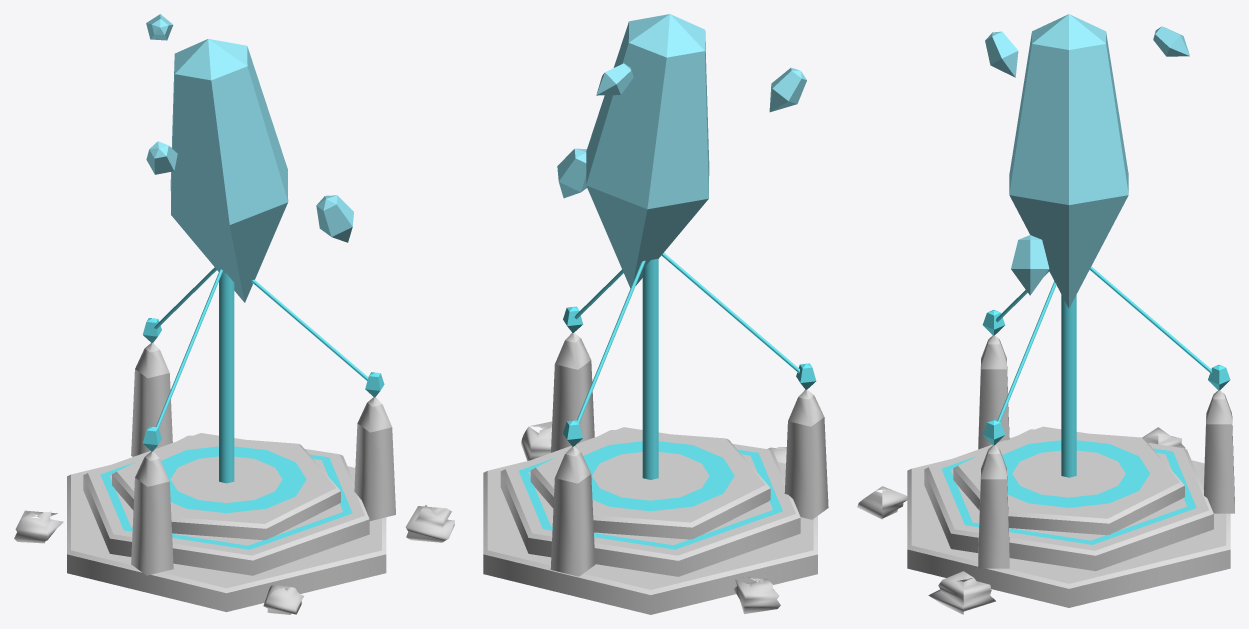
File: FloatingShard.glb
3 renders of one model, left to right at view 1: azimuth 30°, elevation 25°; view 2: azimuth 150°, elevation 25°; view 3: azimuth 270°, elevation 25°, orthographic. The views are drawn at different scales.
Visible parts, largest first — view 1: Body, Shard, Glow; view 2: Body, Shard, Glow; view 3: Body, Shard, Glow.
Boxes of the visible parts, x1,y1,x2,y2 form: Body: [14, 343, 454, 614]; Shard: [146, 14, 353, 302]; Glow: [100, 267, 384, 549]; Body: [483, 333, 828, 614]; Shard: [557, 14, 806, 288]; Glow: [519, 253, 816, 549]; Body: [857, 335, 1234, 614]; Shard: [985, 14, 1189, 308]; Glow: [941, 266, 1230, 544].
Size of the model in its own units: 9.93 by 13.76 by 9.31.
